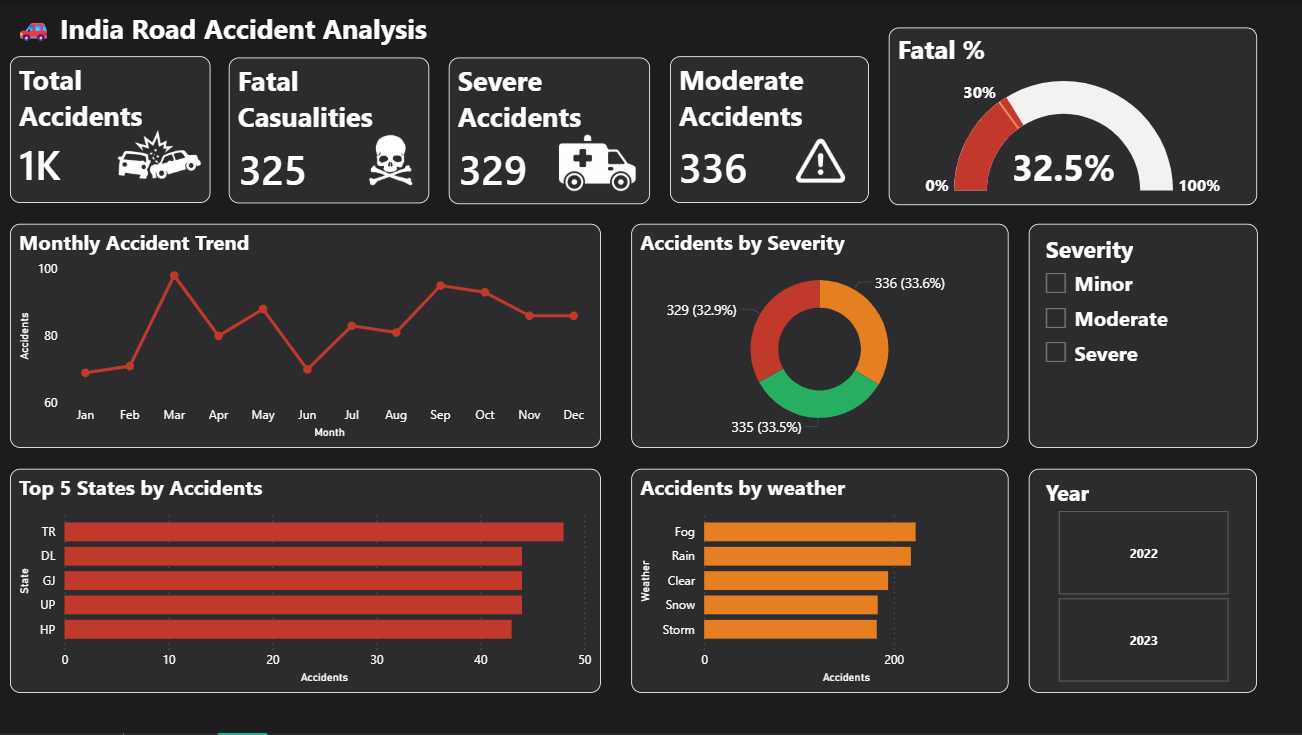

What the dashboard file says about the page in this screenshot:
{"tool":"powerbi","page":{"name":"Page 1","canvas":[1280,720],"ordinal":0},"visuals":[{"type":"textbox","box":[10,5,700,45],"z":0},{"type":"cardVisual","title":"Fatal Casualities","fields":{"Data":["Accidents.Fatal Casualties"]},"box":[224.5,56.4,197,143.2],"z":0,"group":"g2"},{"type":"cardVisual","title":"Total Accidents","fields":{"Data":["Accidents.Total Accidents"]},"box":[9.8,55.2,197,144],"z":1000,"group":"g3"},{"type":"group","id":"g1","title":"Group 1","box":[657.7,55.2,195.1,144.8],"z":1000},{"type":"image","box":[346.3,113.7,75,86.7],"z":1000,"group":"g2"},{"type":"group","id":"g2","title":"Group 2","box":[224.5,56.4,197,144],"z":2000},{"type":"cardVisual","title":"Severe Accidents","fields":{"Data":["Accidents.Severe Accidents"]},"box":[440.5,56.4,197.5,144],"z":2000,"group":"g4"},{"type":"group","id":"g3","title":"Group 3","box":[9.8,55.2,197,144],"z":3000},{"type":"cardVisual","title":"Moderate Accidents","fields":{"Data":["Accidents.Moderate Accidents"]},"box":[657.7,55.2,195.3,144],"z":3000,"group":"g1"},{"type":"gauge","fields":{"Y":["Accidents.Fatal %"]},"box":[872.4,27,362,174.2],"z":4000},{"type":"image","box":[760.6,115.1,89.6,84.7],"z":4002,"group":"g1"},{"type":"image","box":[105.7,109.3,99.4,88.5],"z":4006,"group":"g3"},{"type":"image","box":[537.5,116,98.2,84.7],"z":4008,"group":"g4"},{"type":"group","id":"g4","title":"Group 4","box":[440.5,56.4,197.5,144.8],"z":5000},{"type":"lineChart","title":"Monthly Accident Trend","fields":{"Y":["Accidents.Total Accidents"],"Category":["Date.Month Name"]},"box":[10,220,580,220],"z":5001},{"type":"donutChart","title":"Accidents by Severity","fields":{"Y":["Accidents.Total Accidents"],"Category":["Accidents.severity"]},"box":[620,220,370,220],"z":5002},{"type":"clusteredBarChart","title":"Top 5 States by Accidents","fields":{"Y":["Accidents.Total Accidents"],"Category":["Accidents.state"]},"box":[10,460,580,220],"z":5003},{"type":"clusteredBarChart","title":"Accidents by weather","fields":{"Category":["Accidents.weather"],"Y":["Accidents.Total Accidents"]},"box":[620,460,370,220],"z":5004},{"type":"slicer","fields":{"Values":["Accidents.severity"]},"box":[1009.8,219.6,224.5,220],"z":5006},{"type":"slicer","fields":{"Values":["Accidents.year"]},"box":[1009.8,460.1,224,219.6],"z":5007}]}

Visuals, with their boxes in screenshot pixels (x1, y1, x2, y2), scaled from the page's 1280x720 canvas onto the 1302x735 screenshot:
textbox: (10,5,722,51)
"Fatal Casualities" cardVisual: (228,58,429,204)
"Total Accidents" cardVisual: (10,56,210,203)
"Group 1" group: (669,56,867,204)
image: (352,116,429,205)
"Group 2" group: (228,58,429,205)
"Severe Accidents" cardVisual: (448,58,649,205)
"Group 3" group: (10,56,210,203)
"Moderate Accidents" cardVisual: (669,56,868,203)
gauge - Accidents.Fatal %: (887,28,1256,205)
image: (774,117,865,204)
image: (108,112,209,202)
image: (547,118,647,205)
"Group 4" group: (448,58,649,205)
"Monthly Accident Trend" lineChart: (10,225,600,449)
"Accidents by Severity" donutChart: (631,225,1007,449)
"Top 5 States by Accidents" clusteredBarChart: (10,470,600,694)
"Accidents by weather" clusteredBarChart: (631,470,1007,694)
slicer - Accidents.severity: (1027,224,1256,449)
slicer - Accidents.year: (1027,470,1255,694)
